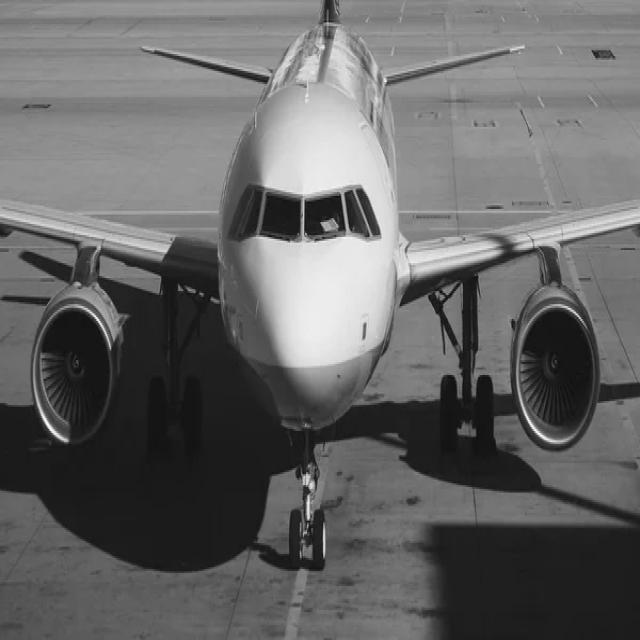Aircraft: (0, 25, 640, 551)
